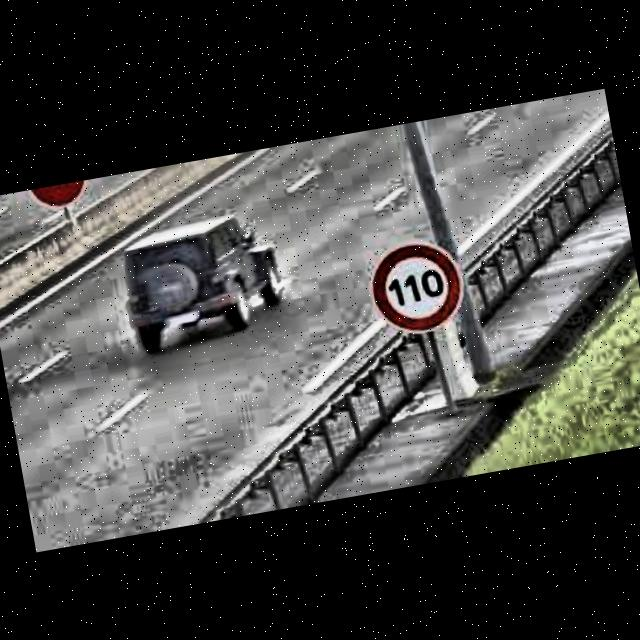speed_110: (365, 233, 470, 339)
